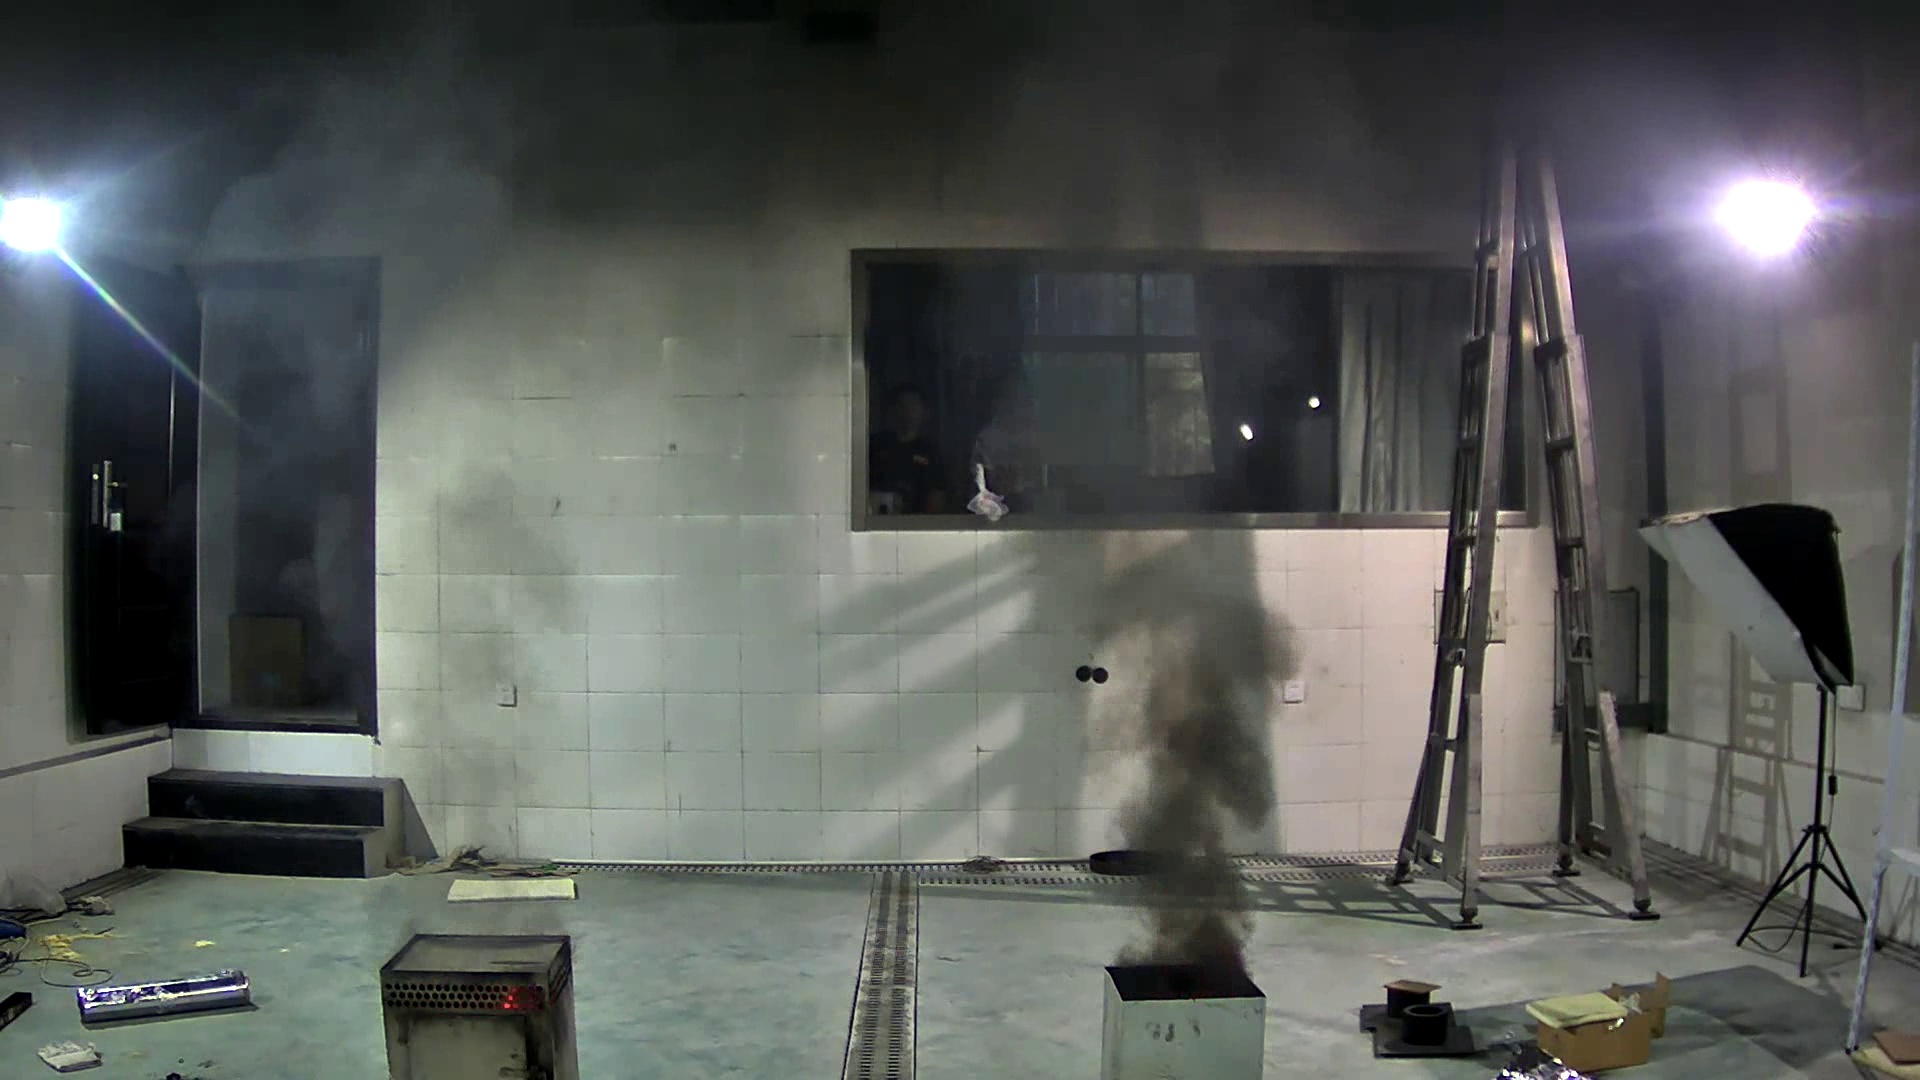smoke: (992, 102, 1305, 959)
